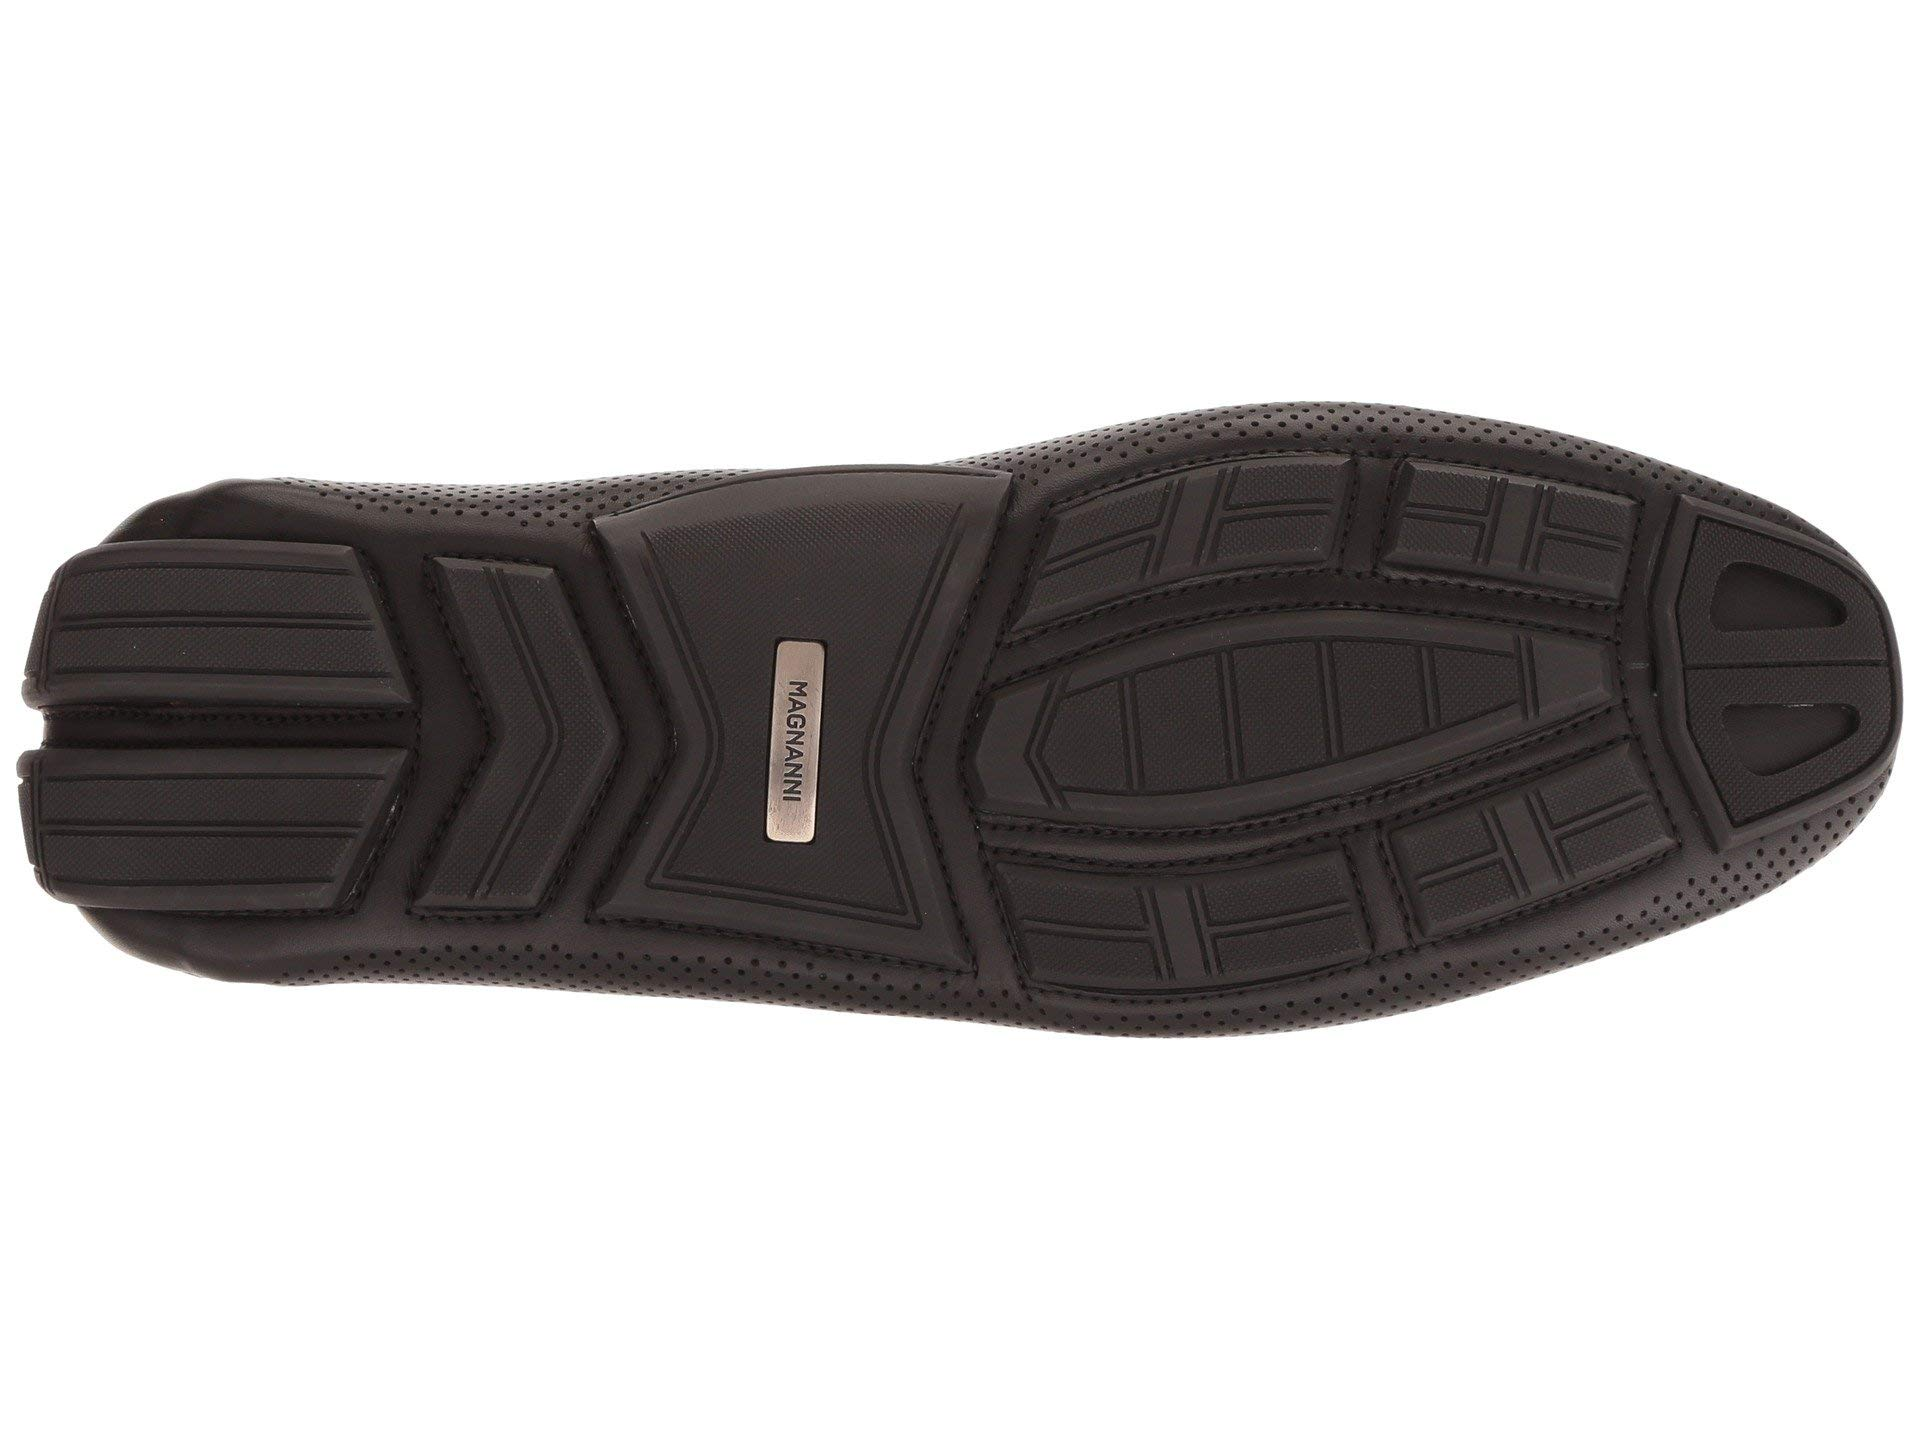bowtie: (596, 442, 1095, 1112)
chevron: (342, 502, 670, 924)
quad: (596, 442, 1095, 1112), (1188, 433, 1680, 991)
text: (596, 442, 1095, 1112)
